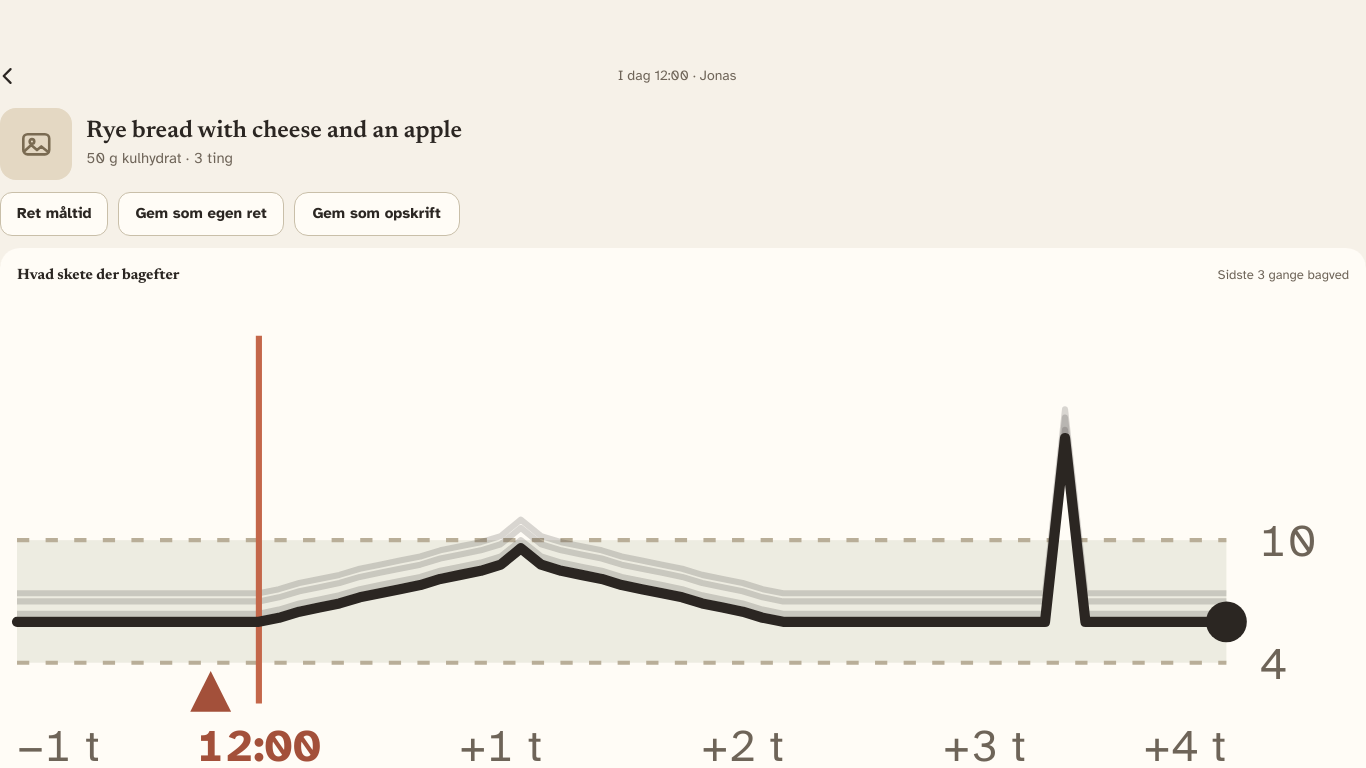
Test case: Måltid · phone (Maaltid-Telefon) › draws the meta header: back 'Tilbage', 'I dag 12:00 · Jonas', and the 'Ret måltid' button below the hero
Check: the text "I dag 12:00 · Jonas" is shown, box [618,67,736,84]
Check: the button "Gem som egen ret" is shown, box [118,192,284,236]
Click the button "Ret måltid": (54, 214) [0,192,108,236]
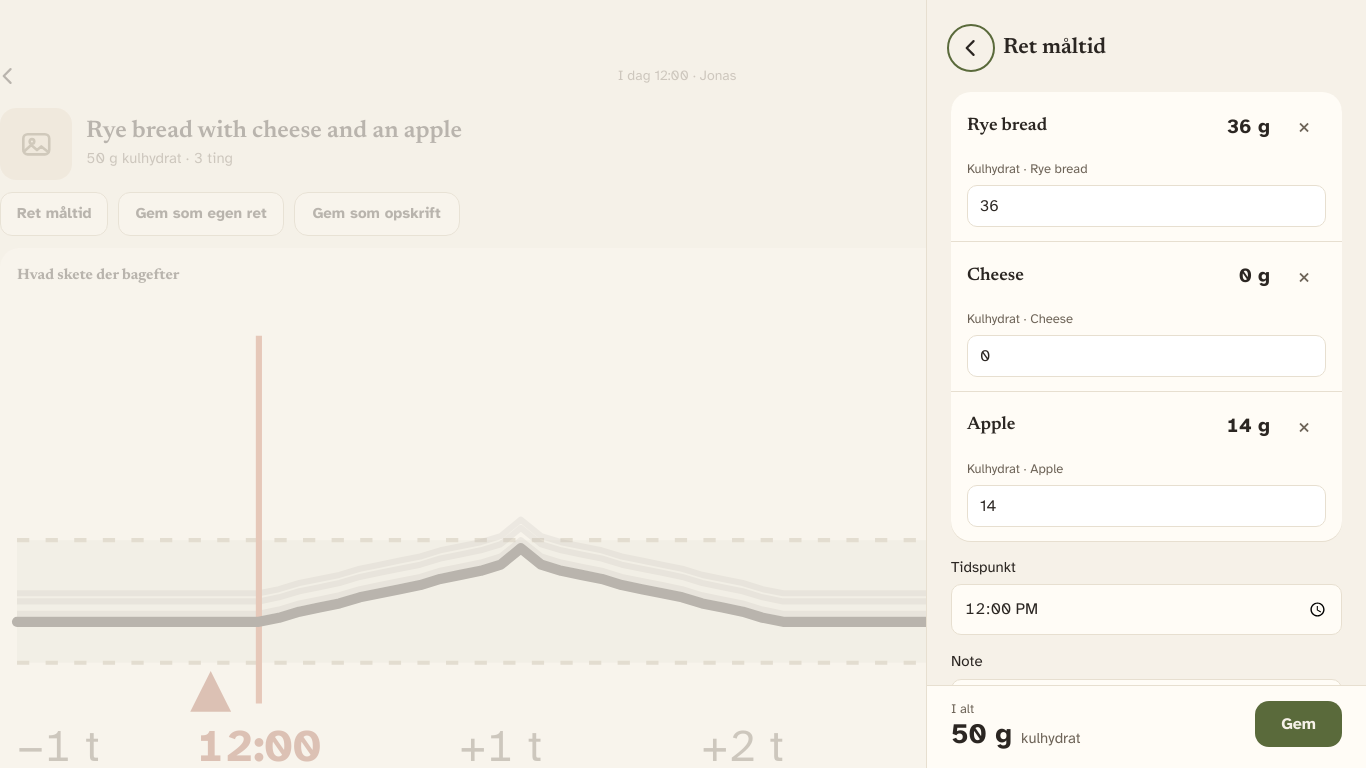
Check: the dialog "Ret måltid" is shown, box [926,0,1365,767]
